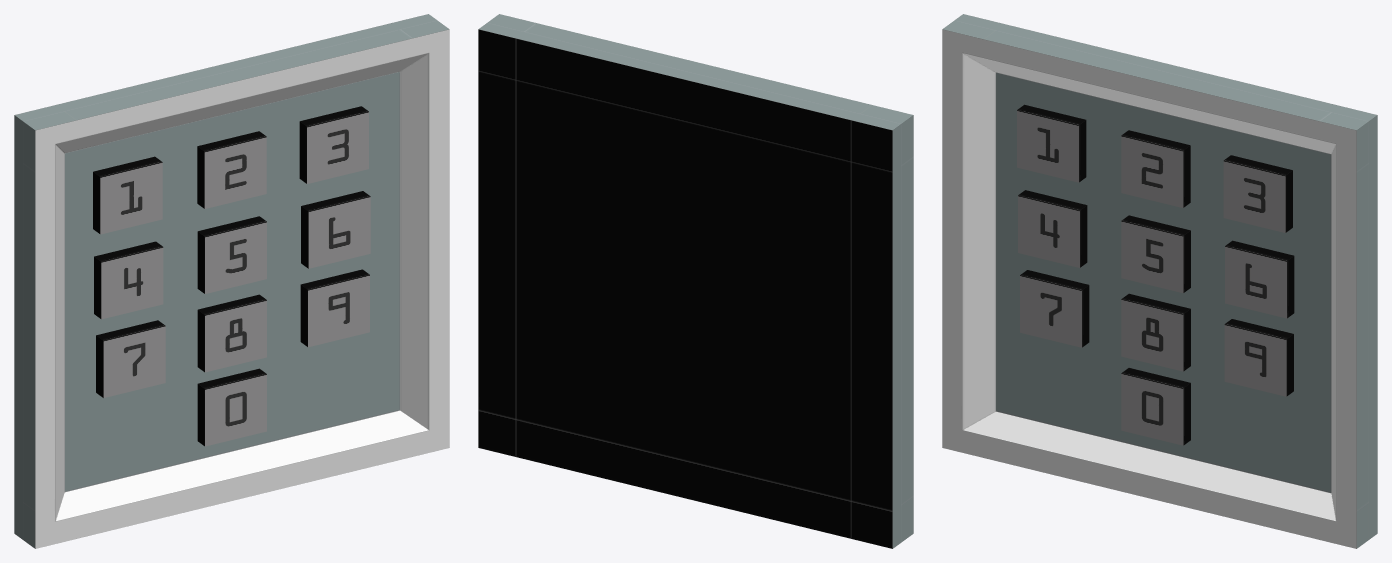
Rendered from keypad.fbx.
3 renders of one model, left to right at view 1: azimuth 30°, elevation 25°; view 2: azimuth 150°, elevation 25°; view 3: azimuth 330°, elevation 25°, orthographic.
Visible parts, largest first — view 1: pCube5, pasted__polySurface28 (×2), polySurface28, pasted__polySurface24, pasted__pasted__pasted__polySurface28, pasted__pasted__pasted__pasted__polySurface28, polySurface29, polySurface24, polySurface25, pasted__pasted__polySurface28; view 2: pCube5; view 3: pCube5, pasted__polySurface28 (×2), polySurface28, pasted__pasted__pasted__polySurface28, pasted__pasted__pasted__pasted__polySurface28, pasted__polySurface24, polySurface24, pasted__pasted__polySurface28, polySurface25, polySurface29.
Boxes of the visible parts, box(x1,y1,x2,y2) form: pCube5: box(14, 14, 449, 548); pasted__polySurface28 (×2): box(94, 241, 266, 446); polySurface28: box(197, 294, 266, 372); pasted__polySurface24: box(197, 131, 266, 208); pasted__pasted__pasted__polySurface28: box(301, 191, 370, 268); pasted__pasted__pasted__pasted__polySurface28: box(96, 320, 165, 397); polySurface29: box(300, 269, 369, 347); polySurface24: box(93, 156, 162, 234); polySurface25: box(299, 106, 368, 183); pasted__pasted__polySurface28: box(197, 216, 266, 293); pCube5: box(478, 14, 913, 548); pCube5: box(942, 14, 1377, 548); pasted__polySurface28 (×2): box(1018, 190, 1190, 445); polySurface28: box(1121, 293, 1190, 371); pasted__pasted__pasted__polySurface28: box(1225, 240, 1294, 318); pasted__pasted__pasted__pasted__polySurface28: box(1020, 270, 1089, 347); pasted__polySurface24: box(1121, 130, 1190, 207); polySurface24: box(1017, 104, 1086, 182); pasted__pasted__polySurface28: box(1121, 215, 1190, 293); polySurface25: box(1223, 155, 1292, 232); polySurface29: box(1224, 319, 1293, 396).
Bounding box in the file's own units: 1.29 × 1.24 × 0.1127.
Materials: 11 (11 with a texture image).
